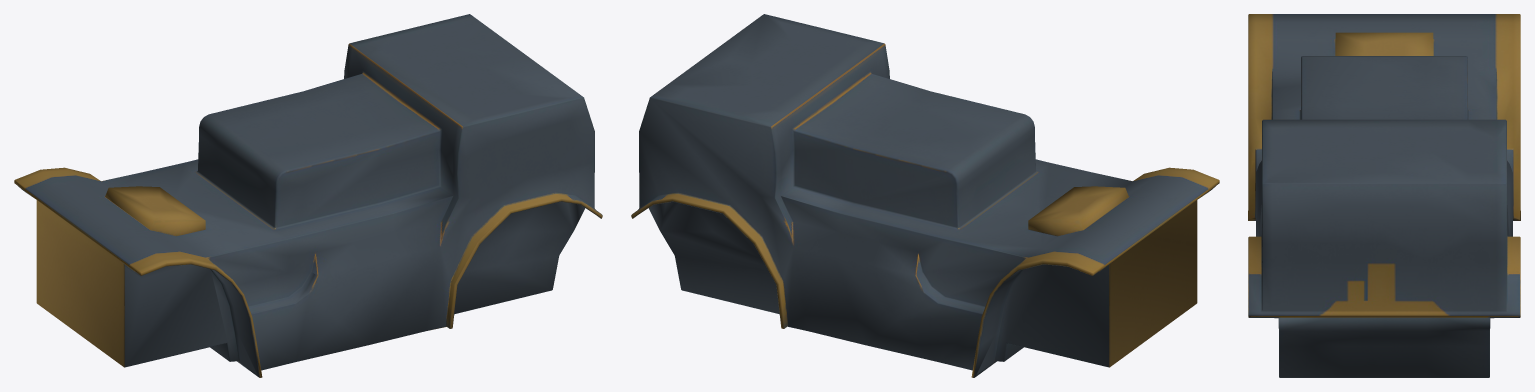
File: forklift-chassis-unit-tripo-original.glb
The picture shows the model from 3 angles, left to right: view 1: azimuth 30°, elevation 25°; view 2: azimuth 150°, elevation 25°; view 3: azimuth 270°, elevation 25°; orthographic projection. The views are drawn at different scales.
Visible parts, largest first — view 1: Authored_surface; view 2: Authored_surface; view 3: Authored_surface.
Boxes of the visible parts, x1,y1,x2,y2 form: Authored_surface: [14, 14, 602, 377]; Authored_surface: [631, 14, 1219, 377]; Authored_surface: [1248, 14, 1520, 377].
Size of the model in its own units: 1 by 0.4042 by 0.4769.
1 material, 1 textured.
